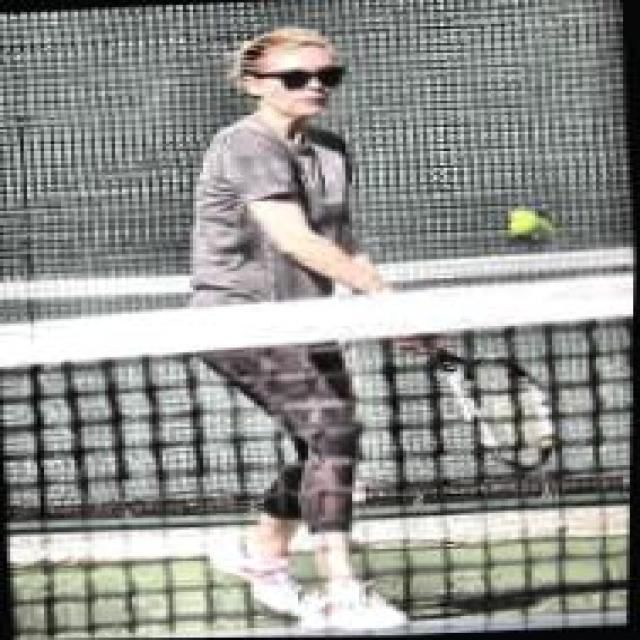tennis-ball: (510, 208, 554, 246)
